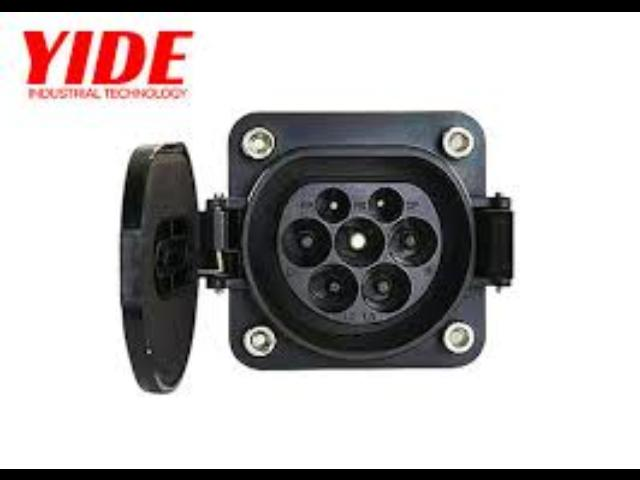inlet: (276, 182, 443, 325)
inlet-above-left: (316, 187, 351, 223)
inlet-above-right: (368, 187, 404, 224)
inlet-below-left: (310, 263, 358, 314)
inlet-below-right: (363, 261, 411, 312)
inlet-circle: (334, 218, 385, 267)
inlet-circle-left: (282, 217, 332, 266)
inlet-circle-right: (389, 216, 439, 266)
